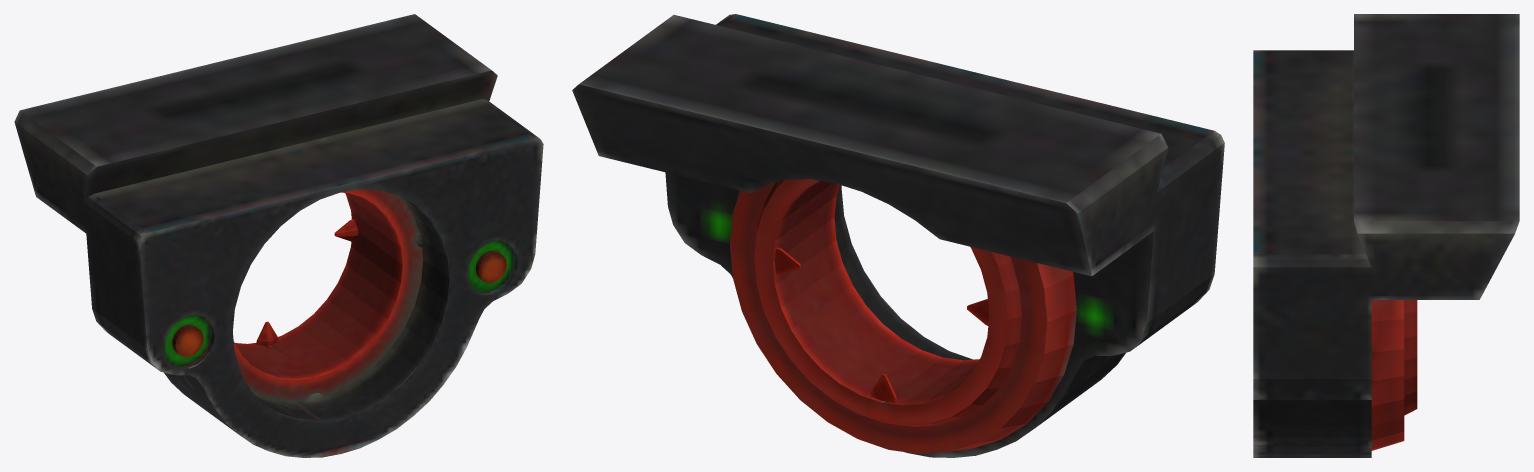
The picture shows the model from 3 angles, left to right: view 1: azimuth 30°, elevation 25°; view 2: azimuth 150°, elevation 25°; view 3: azimuth 270°, elevation 25°; orthographic projection. The views are drawn at different scales.
Visible parts, largest first — view 1: TW_5a7d9122159bd4001438dbf4_PZ_Import; view 2: TW_5a7d9122159bd4001438dbf4_PZ_Import; view 3: TW_5a7d9122159bd4001438dbf4_PZ_Import.
Part boxes in pixels (x1,y1,x2,y2): TW_5a7d9122159bd4001438dbf4_PZ_Import: (14, 14, 543, 457); TW_5a7d9122159bd4001438dbf4_PZ_Import: (572, 14, 1224, 457); TW_5a7d9122159bd4001438dbf4_PZ_Import: (1253, 14, 1519, 457).
Size of the model in its own units: 0.0125 by 0.00652 by 0.00874.
1 material, 1 textured.
